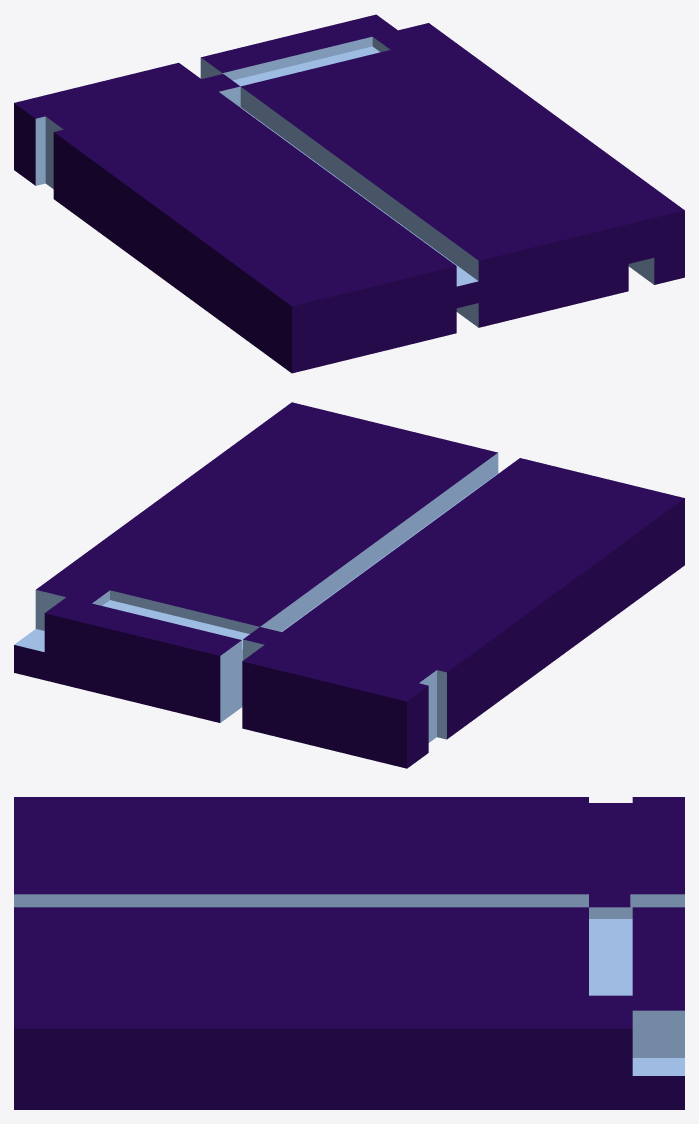
The model's file is Platform10.fbx.
The picture shows the model from 3 angles, top to bottom: view 1: azimuth 30°, elevation 25°; view 2: azimuth 150°, elevation 25°; view 3: azimuth 270°, elevation 25°; orthographic projection. The views are drawn at different scales.
Parts seen in each view (by area): view 1: Box072; view 2: Box072; view 3: Box072.
Part boxes in pixels (x1,y1,x2,y2): Box072: [14, 14, 684, 373]; Box072: [14, 402, 684, 768]; Box072: [14, 797, 684, 1109].
Size of the model in its own units: 126 by 20.5 by 154.
